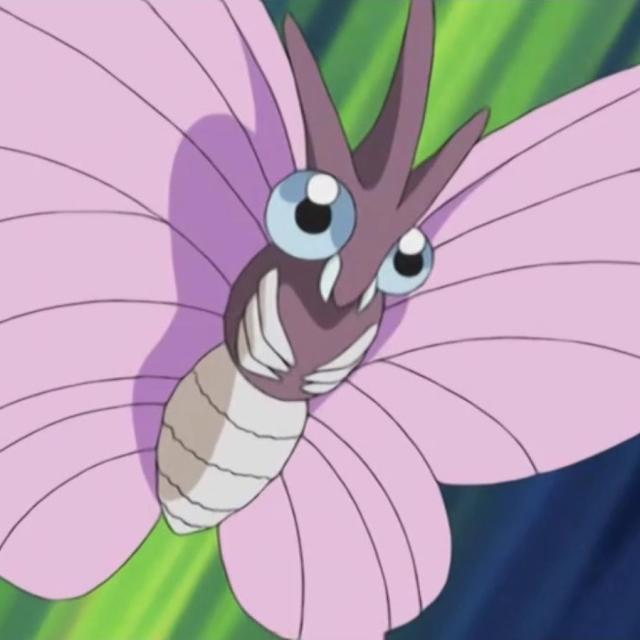Venomoth: (39, 7, 484, 595)
